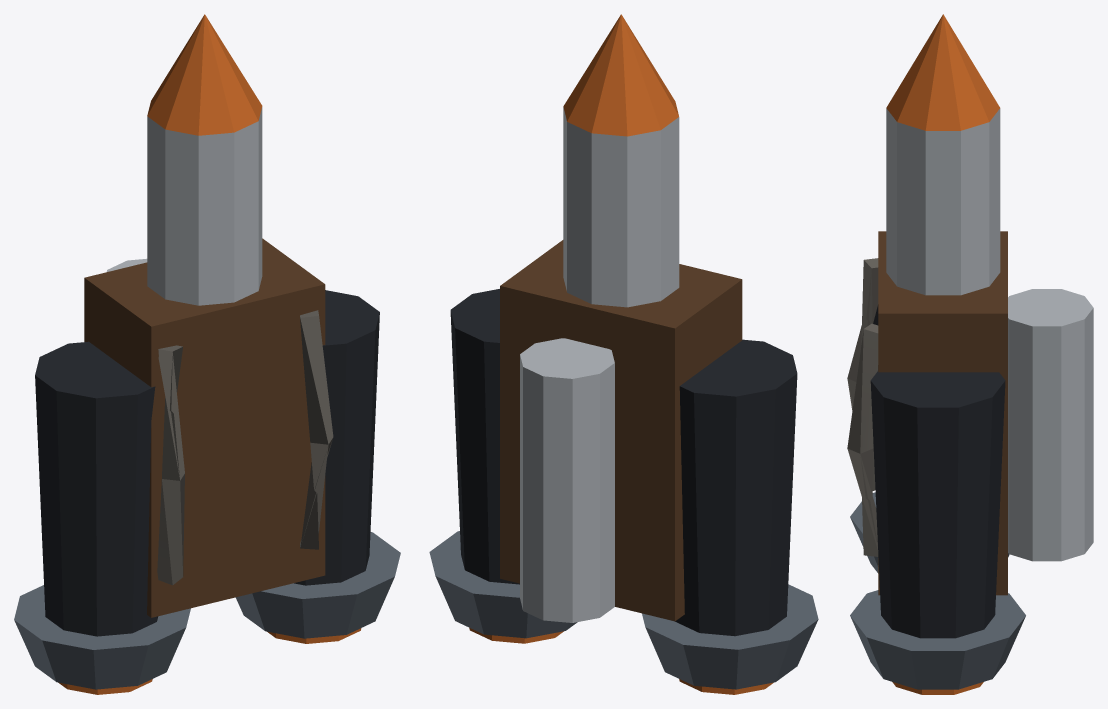
File: jetpack-z6.glb
The picture shows the model from 3 angles, left to right: view 1: azimuth 30°, elevation 25°; view 2: azimuth 150°, elevation 25°; view 3: azimuth 270°, elevation 25°; orthographic projection. The views are drawn at different scales.
Parts seen in each view (by area): view 1: m; view 2: m; view 3: m.
Part boxes in pixels (x1=…): m: x1=14, y1=14, x2=400, y2=694; m: x1=429, y1=14, x2=818, y2=694; m: x1=847, y1=14, x2=1093, y2=694.
Size of the model in its own units: 0.113 by 0.19 by 0.0694.
